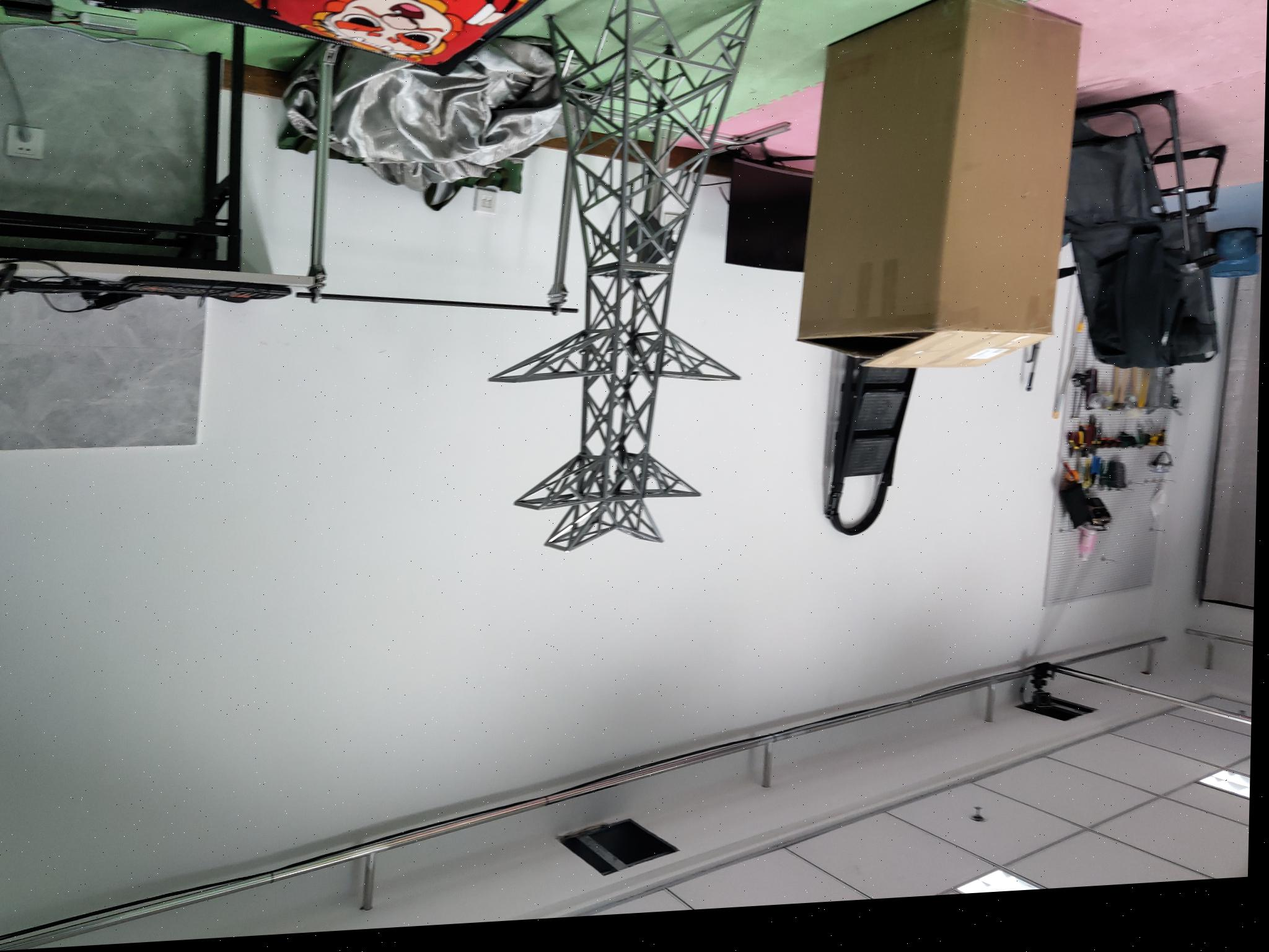tower: (514, 0, 751, 553)
